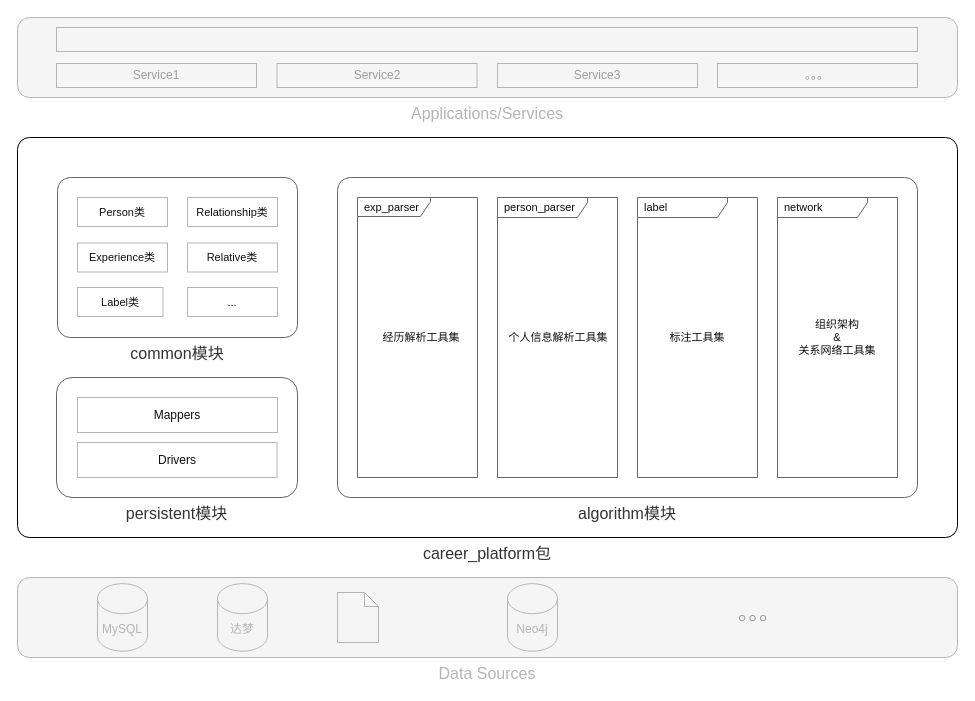
Some shapes in this 975 by 701 pixel diagram are drawn without their labels. The centre of each missing label's shape, as x and y in pixels:
"Controllers" belongs at point 487,39.
"JSON" belongs at point 357,617.
